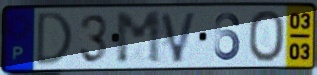3: (78, 13, 109, 65)
6: (213, 11, 242, 63)
D: (34, 10, 75, 68)
M: (113, 10, 164, 67)
O: (246, 9, 287, 65)
V: (158, 10, 200, 65)
